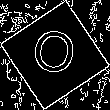O_S: (29, 26, 81, 84)
